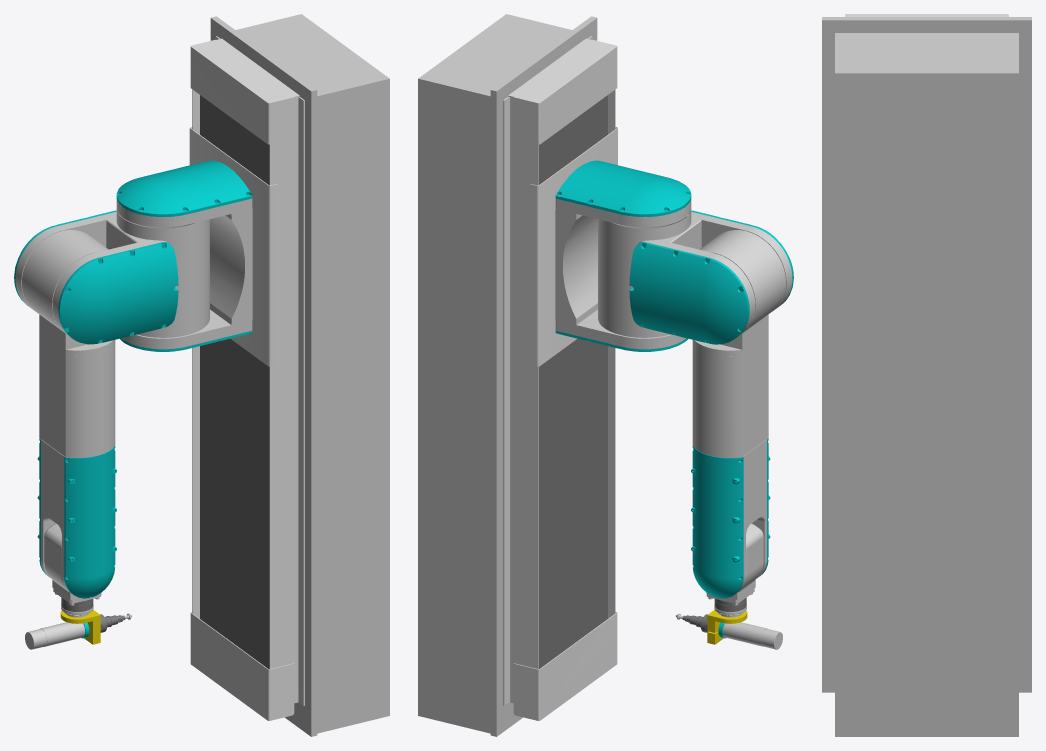
File: gsg.glb
3 views of the same model, side by side, from view 1: azimuth 30°, elevation 25°; view 2: azimuth 150°, elevation 25°; view 3: azimuth 270°, elevation 25° (orthographic). The views are drawn at different scales.
Parts seen in each view (by area): view 1: ヌル; view 2: ヌル; view 3: ヌル.
Part boxes in pixels (box(x1,y1,x2,y2)): ヌル: box(14, 14, 389, 736); ヌル: box(418, 14, 793, 736); ヌル: box(822, 14, 1031, 736).
Size of the model in its own units: 0.7981 by 1.57 by 0.44.
